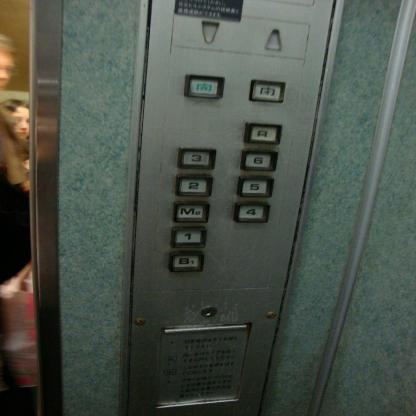1: (170, 226, 206, 248)
2: (174, 173, 213, 197)
3: (177, 146, 216, 169)
4: (232, 200, 270, 223)
5: (235, 174, 274, 198)
6: (239, 148, 279, 172)
B1: (168, 251, 204, 272)
M2: (172, 200, 210, 223)
R: (242, 119, 282, 144)
down: (200, 20, 220, 44)
keyhole: (200, 306, 217, 317)
text: (182, 72, 224, 100), (248, 78, 286, 103)
up: (264, 27, 283, 51)
